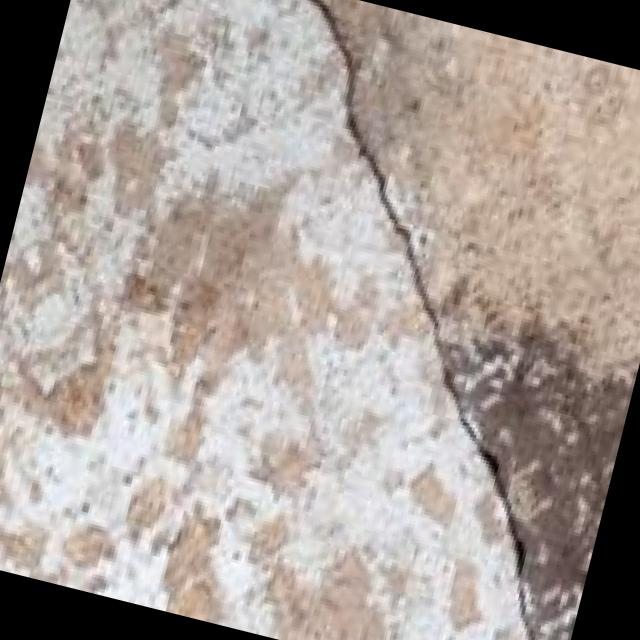crack: (178, 5, 640, 640)
